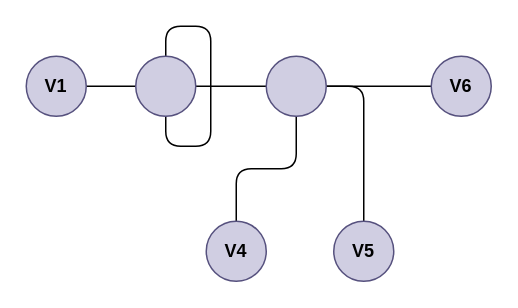
This 518x308 diagram has some shape labels left out. Each missing label, with the centre of its shape:
"V2" goes at point (165, 85).
"V3" goes at point (295, 85).
